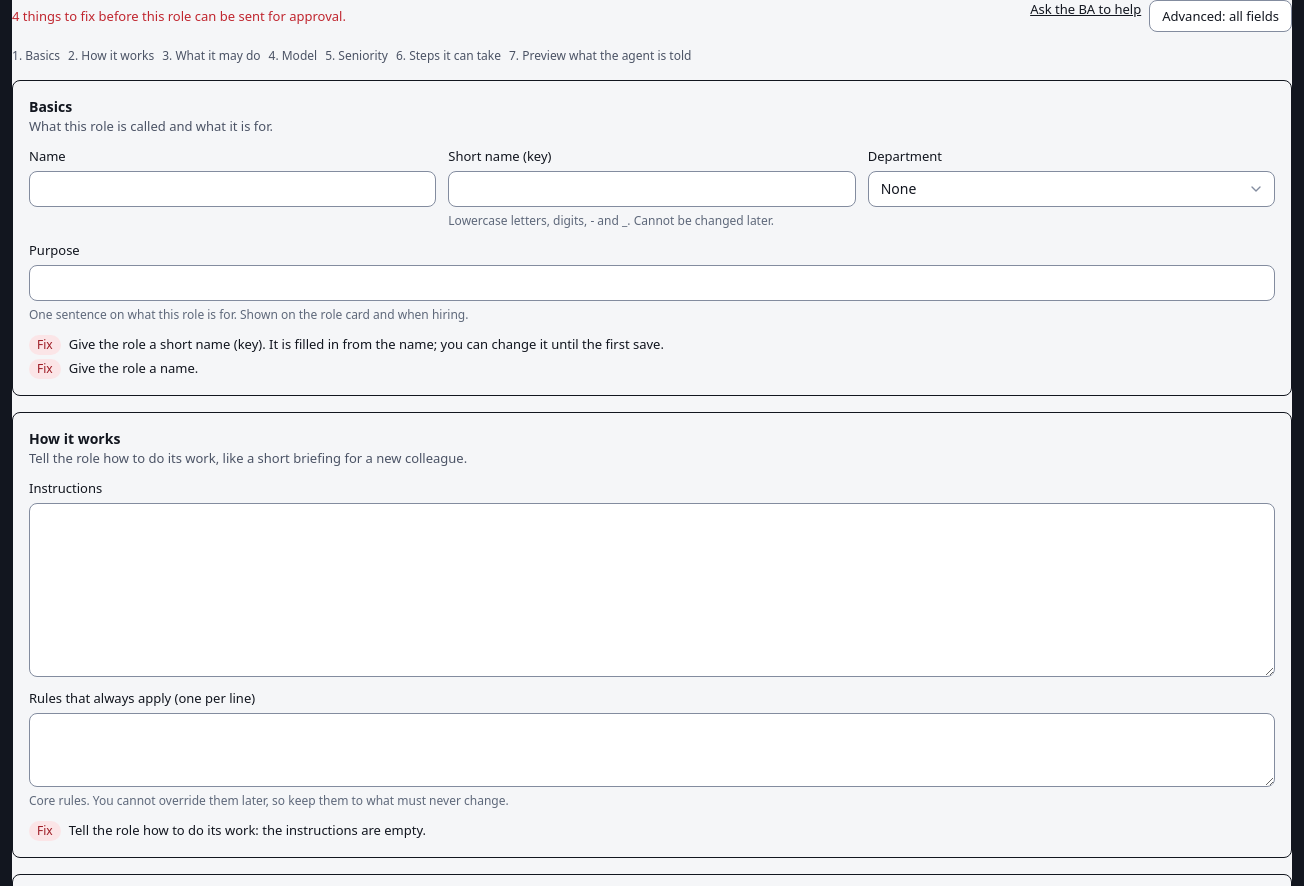
Test: role builder form › explains problems in plain words, pinned to the section, and clears them as they are fixed
Expected: the list item with test id "issue" shows "Tell the role how to do its work", x1=69 y1=821 x2=426 y2=839
Type "Triager" into the field labelled "Name" at (233,189), box x1=29 y1=171 x2=436 y2=207
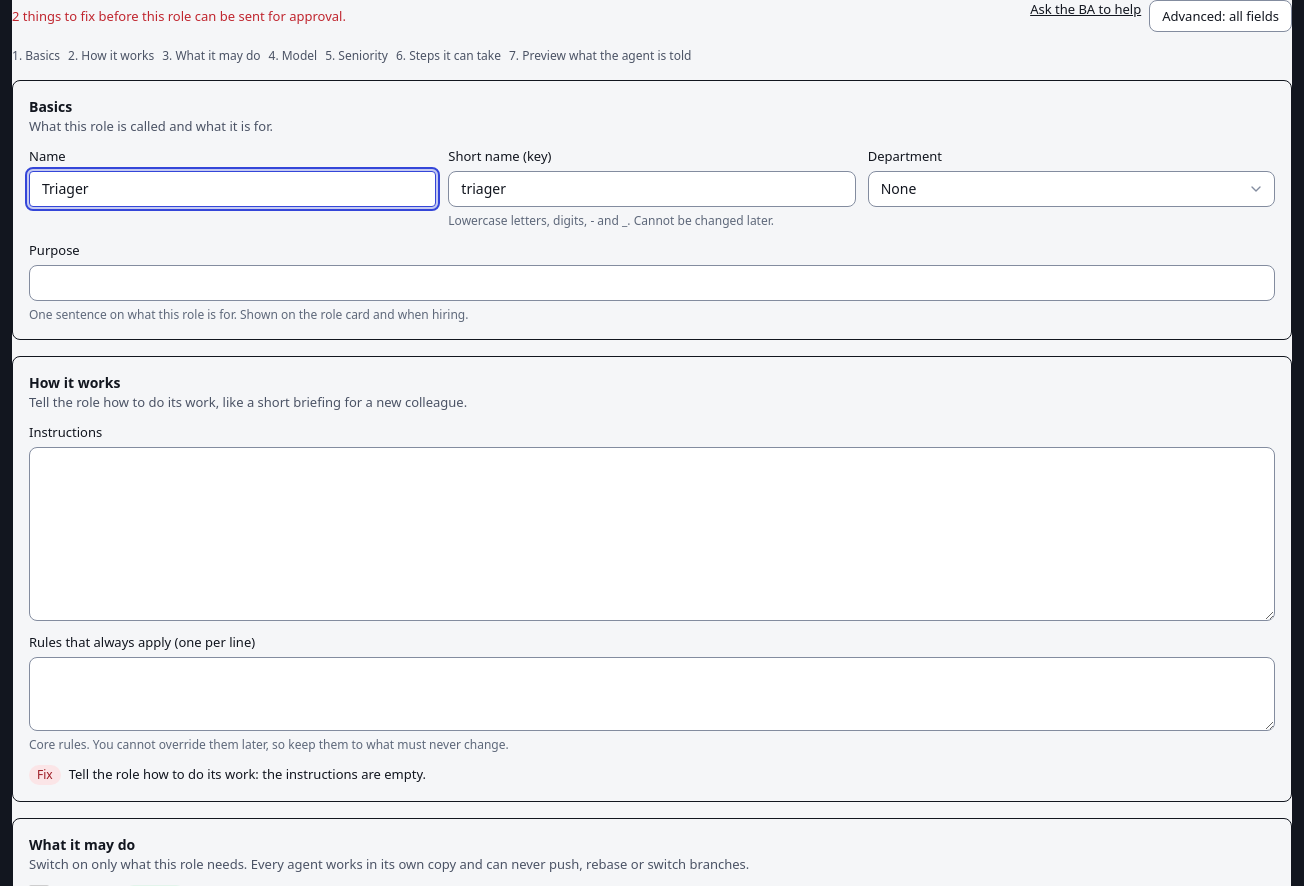
Type "Sort tickets." into the text box labelled "Instructions" at (652,534), box x1=29 y1=447 x2=1275 y2=621
(page scrolled)
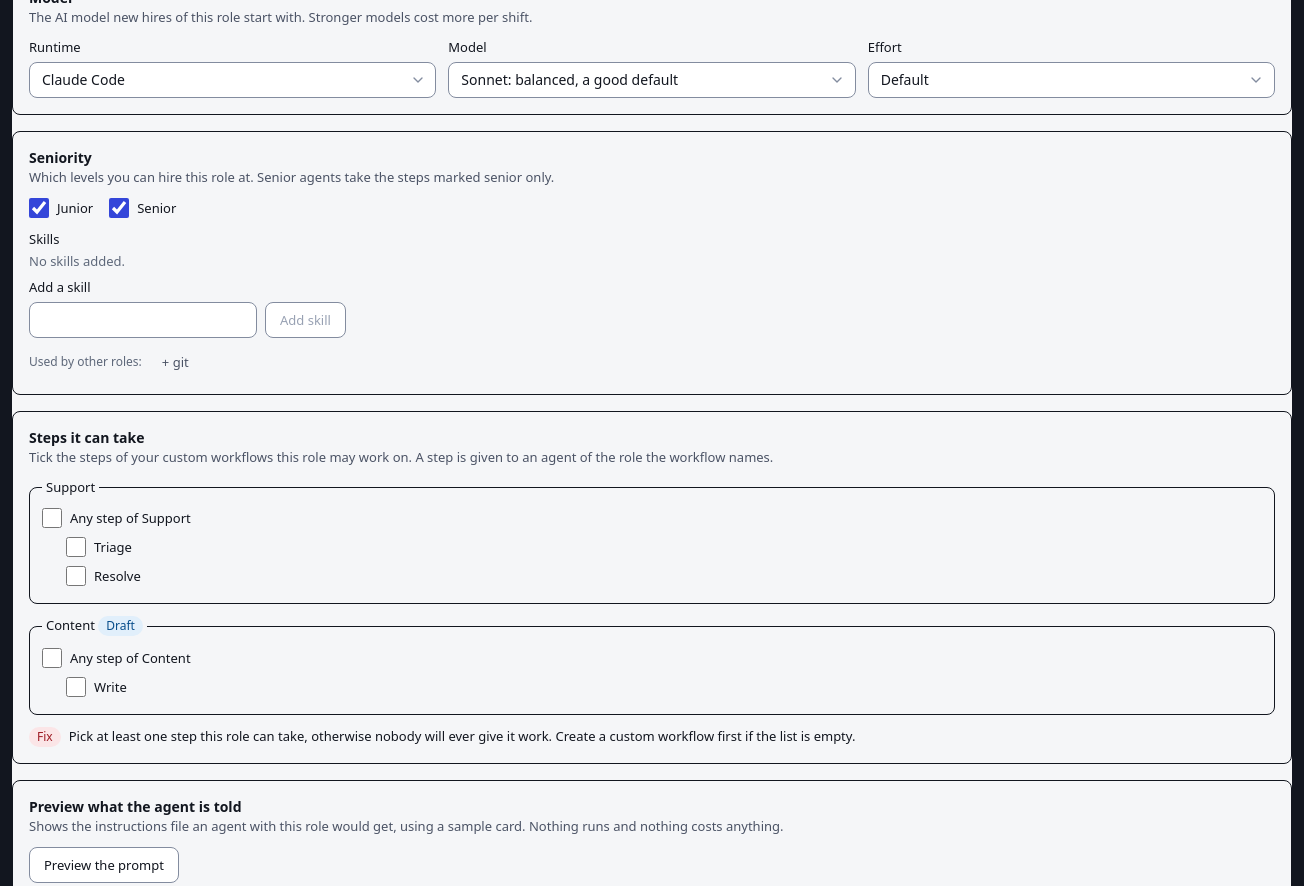
Click the checkbox labelled "Triage" at (76,547), box x1=66 y1=537 x2=86 y2=557
(page scrolled)
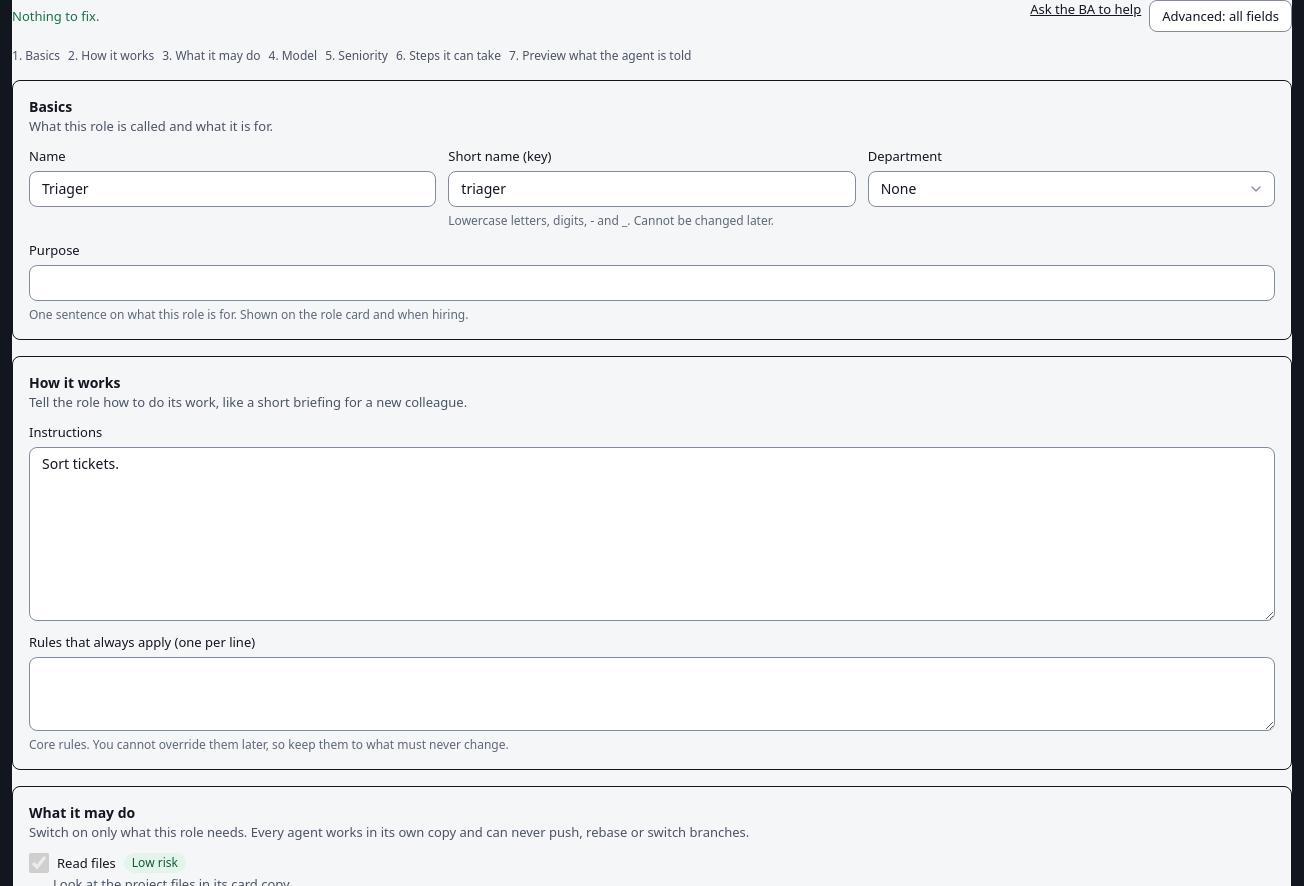
Expected: the text "Nothing to fix." is shown, x1=12 y1=7 x2=99 y2=25
Note: A built-in key is explained, not shown as a validator message.
Replace the text in the field labelled "Short name (key)" with "builder" at (652,189), box x1=448 y1=171 x2=856 y2=207
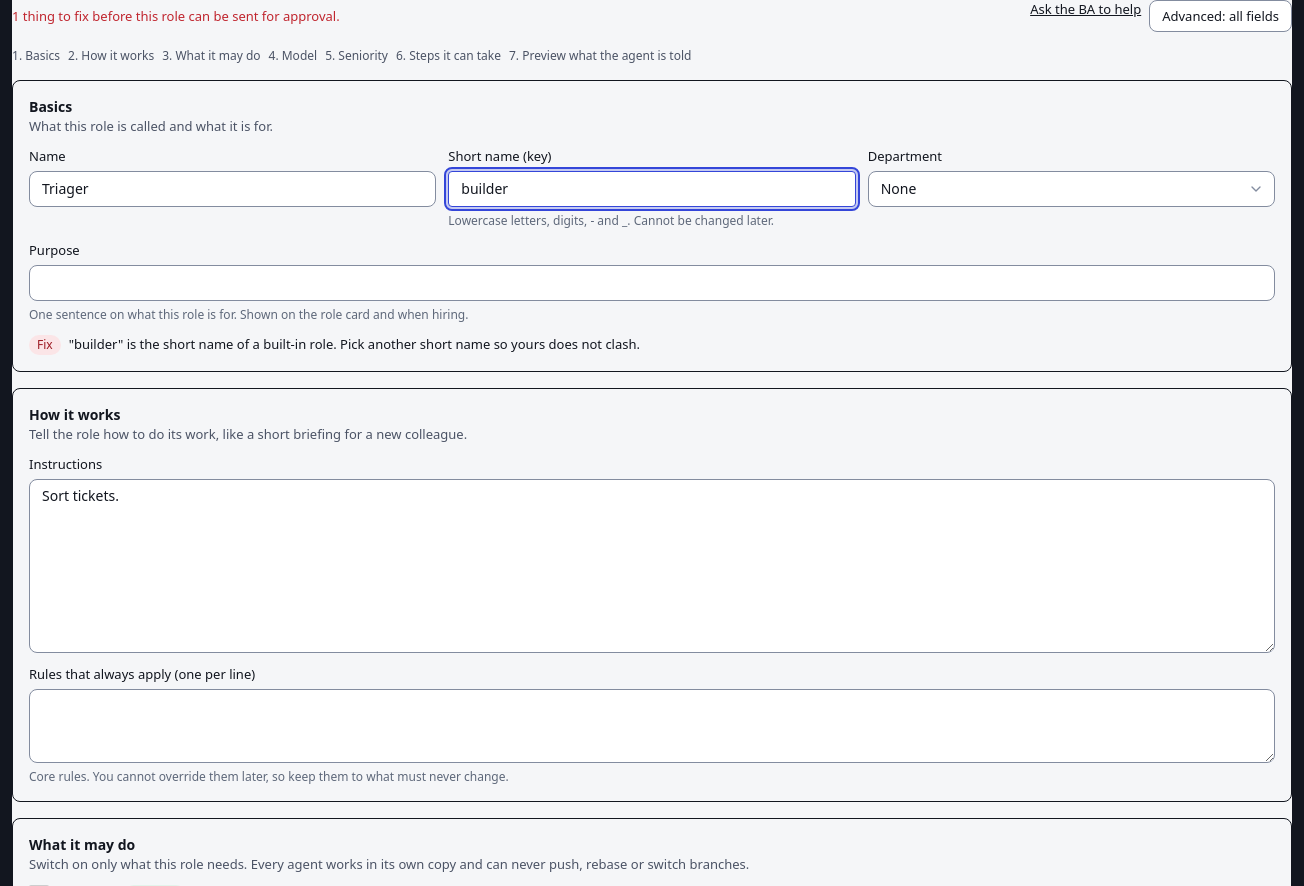
Expected: the list item with test id "issue" shows "\"builder\" is the short name of a built-in role", x1=69 y1=335 x2=640 y2=353
